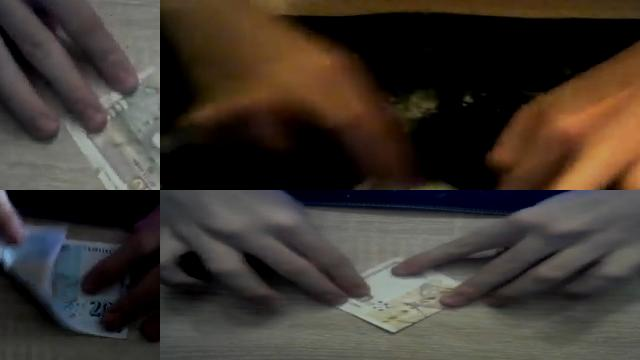10leva: (63, 74, 160, 190), (337, 259, 461, 334)
20leva: (3, 223, 128, 339)
